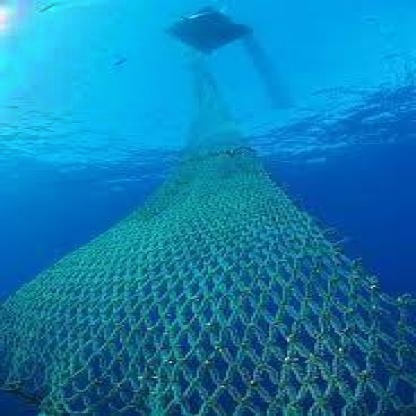net: (9, 123, 402, 416)
